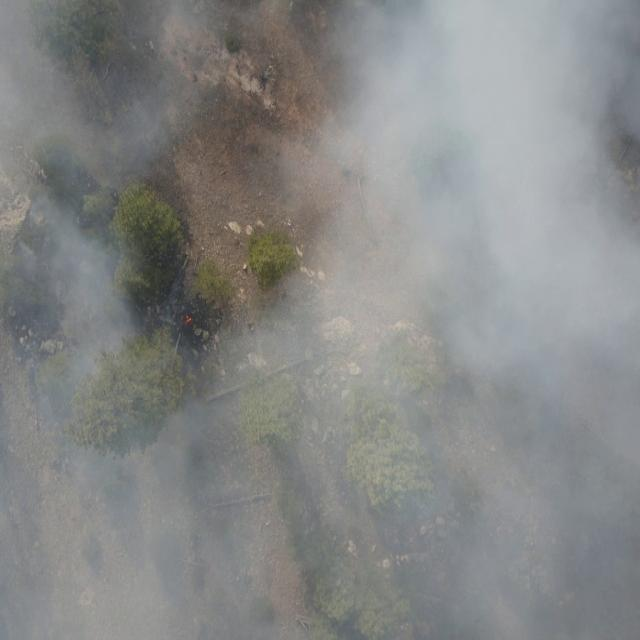fire: (182, 312, 195, 328)
smoke: (0, 0, 640, 640)
